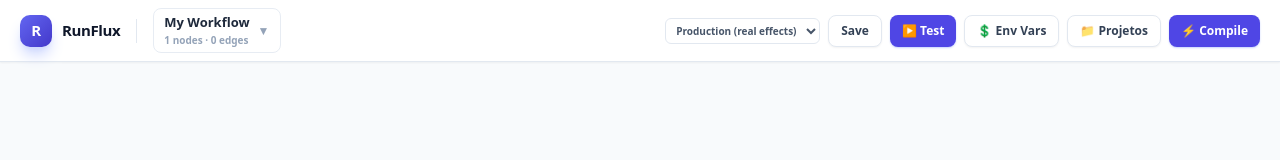
Test: Toolbar — Save (RF-07, RN-04) › saves the workflow even with a required parameter left empty
The image size is (1280, 160).
Click the button "Save": click(855, 30) [828,14,882,46]
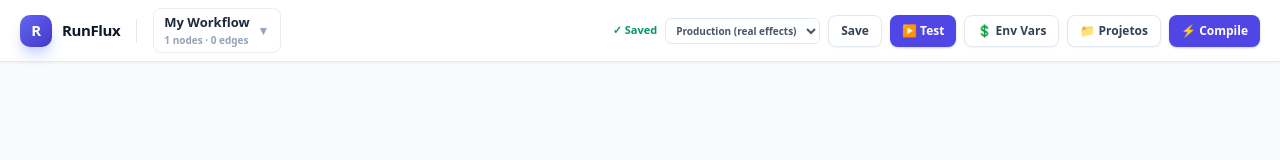
Check: the text "✓ Saved" is shown, box [613,22,657,39]
